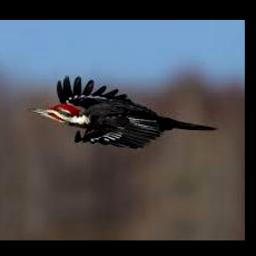Woodpecker: (27, 75, 217, 149)
